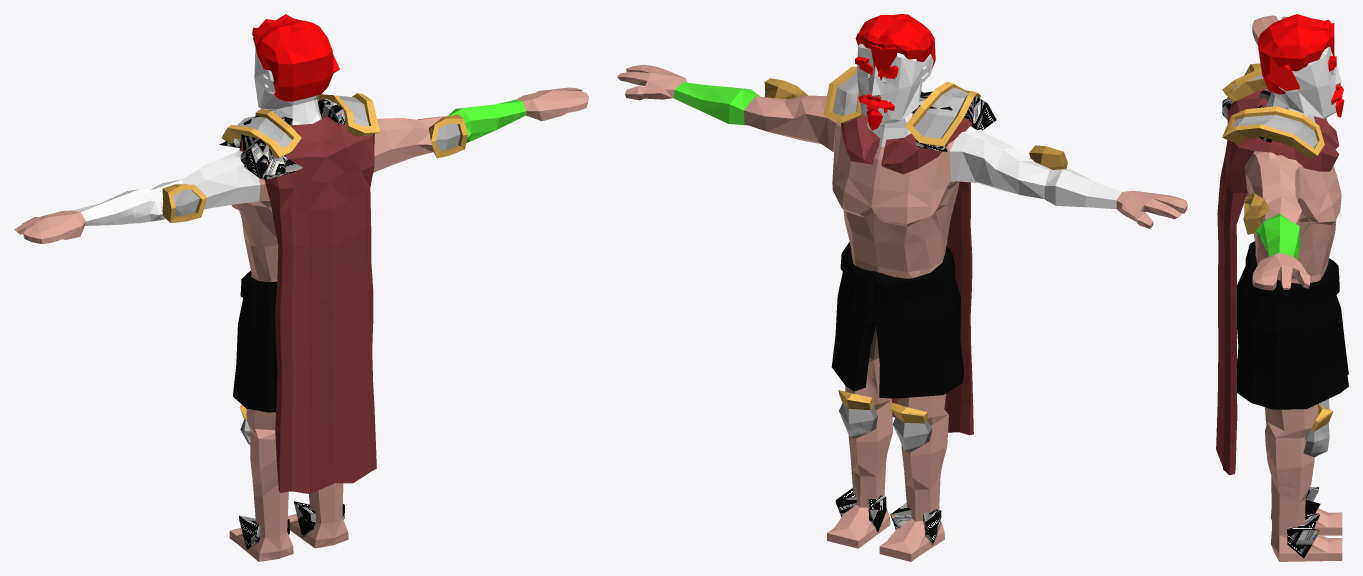
The model's file is XplodeGuy.fbx.
The picture shows the model from 3 angles, left to right: view 1: azimuth 30°, elevation 25°; view 2: azimuth 150°, elevation 25°; view 3: azimuth 270°, elevation 25°; orthographic projection.
Visible parts, largest first — view 1: Cape_1, Hair_M_1, Belt_1, Cape_1_cell.021, Cape_1_cell.011, Calf_M_L, Cape_1_cell.017, Arm_M_R, Cape_1_cell.023, Head_M_1, Cape_1_cell.026, Pauldron_L (+15 smaller); view 2: Belt_1, Torso_M_1, Cape_1, Arm_M_L, Head_M_1, Calf_M_L, Calf_M_R, Pauldron_L, Forearm_M_L, Hair_M_1, Legs_M_1, Foot_M_R (+9 smaller); view 3: Belt_1, Cape_1, Hair_M_1, Pauldron_R, Calf_M_R, Head_M_1, Torso_M_1, Arm_M_R, Belt_1_cell.025, Hand_M_R, Foot_M_R, Belt_1_cell (+59 smaller).
Part boxes in pixels (left/top/right/bottom): Cape_1: left=239, top=121, right=376, bottom=491; Hair_M_1: left=253, top=14, right=333, bottom=98; Belt_1: left=233, top=270, right=277, bottom=411; Cape_1_cell.021: left=275, top=302, right=351, bottom=362; Cape_1_cell.011: left=275, top=358, right=337, bottom=492; Calf_M_L: left=250, top=432, right=288, bottom=536; Cape_1_cell.017: left=296, top=216, right=347, bottom=311; Arm_M_R: left=374, top=115, right=449, bottom=172; Cape_1_cell.023: left=275, top=223, right=314, bottom=320; Head_M_1: left=254, top=47, right=319, bottom=125; Cape_1_cell.026: left=297, top=143, right=365, bottom=214; Pauldron_L: left=222, top=109, right=301, bottom=158; Belt_1: left=831, top=246, right=963, bottom=398; Torso_M_1: left=832, top=121, right=959, bottom=277; Cape_1: left=841, top=91, right=973, bottom=435; Arm_M_L: left=950, top=126, right=1048, bottom=199; Head_M_1: left=856, top=44, right=933, bottom=146; Calf_M_L: left=901, top=414, right=948, bottom=521; Calf_M_R: left=849, top=402, right=892, bottom=507; Pauldron_L: left=905, top=82, right=980, bottom=146; Forearm_M_L: left=1044, top=169, right=1121, bottom=208; Hair_M_1: left=855, top=15, right=935, bottom=68; Legs_M_1: left=867, top=334, right=946, bottom=425; Foot_M_R: left=827, top=506, right=890, bottom=548; Belt_1: left=1237, top=241, right=1348, bottom=409; Cape_1: left=1216, top=87, right=1339, bottom=474; Hair_M_1: left=1257, top=14, right=1334, bottom=94; Pauldron_R: left=1222, top=108, right=1324, bottom=158; Calf_M_R: left=1265, top=431, right=1313, bottom=535; Head_M_1: left=1266, top=47, right=1341, bottom=122; Torso_M_1: left=1245, top=151, right=1341, bottom=282; Arm_M_R: left=1247, top=152, right=1298, bottom=224; Belt_1_cell.025: left=1237, top=316, right=1309, bottom=354; Hand_M_R: left=1252, top=253, right=1309, bottom=290; Foot_M_R: left=1270, top=530, right=1342, bottom=561; Belt_1_cell: left=1285, top=333, right=1330, bottom=390.
Size of the model in its own units: 41803 by 36807 by 8536.
